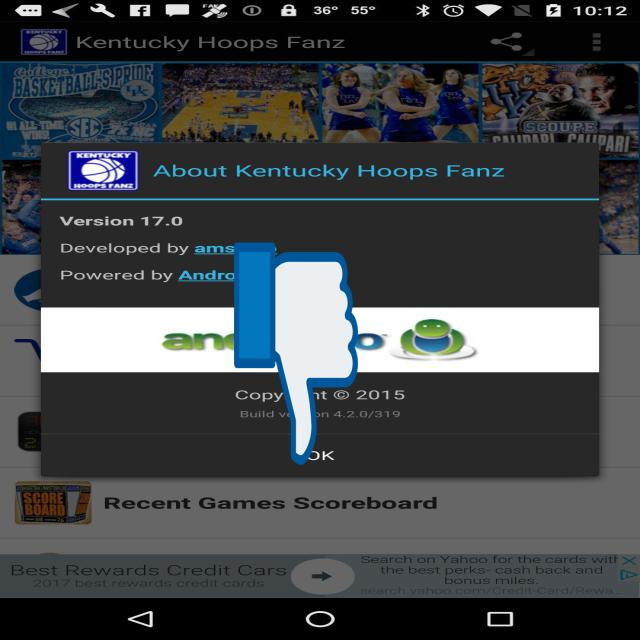obstruction: (234, 238, 358, 470)
